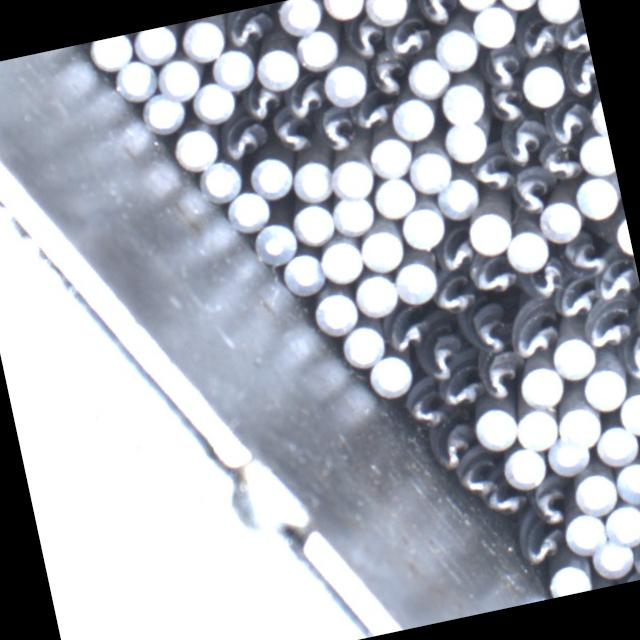tool: (283, 150, 338, 207), (248, 42, 302, 96), (570, 170, 624, 223), (355, 221, 407, 276), (205, 42, 258, 95), (532, 193, 584, 246), (461, 204, 514, 256), (364, 348, 416, 401), (431, 20, 482, 74), (239, 152, 294, 202), (468, 402, 520, 454), (308, 285, 360, 337), (386, 90, 439, 141), (336, 318, 387, 370), (390, 254, 441, 306), (405, 142, 456, 194), (350, 268, 401, 320), (315, 234, 366, 286), (176, 14, 227, 66), (499, 224, 552, 274), (498, 442, 549, 493), (548, 331, 599, 382), (398, 200, 448, 252), (170, 121, 220, 173), (570, 470, 620, 522), (192, 157, 245, 206), (368, 171, 419, 221), (290, 22, 340, 73), (318, 59, 368, 110), (328, 151, 377, 203), (440, 115, 490, 165), (516, 362, 566, 412), (468, 0, 518, 49), (404, 51, 454, 100), (222, 184, 272, 233), (248, 220, 298, 269), (511, 403, 559, 453), (288, 196, 336, 246), (552, 400, 602, 448), (187, 78, 238, 125), (589, 421, 640, 468), (580, 363, 628, 412), (560, 508, 609, 556), (434, 172, 482, 220), (590, 535, 638, 583), (278, 248, 326, 296), (366, 132, 414, 180), (140, 88, 188, 135), (518, 62, 566, 109), (154, 52, 202, 98), (328, 192, 376, 238), (544, 434, 592, 479), (274, 0, 326, 41), (114, 56, 160, 102), (574, 130, 616, 178), (133, 24, 179, 65), (601, 499, 640, 547), (544, 559, 591, 598), (88, 34, 136, 70), (359, 0, 409, 28), (613, 389, 640, 440), (612, 456, 640, 505), (530, 0, 582, 25), (320, 0, 368, 22), (491, 0, 543, 11), (451, 0, 501, 11)
tool_b: (506, 299, 560, 363), (414, 326, 472, 384), (511, 508, 564, 570), (537, 98, 596, 148), (576, 296, 630, 350), (475, 348, 525, 406), (504, 160, 554, 218), (222, 3, 278, 53), (463, 300, 513, 356), (524, 473, 575, 527), (453, 442, 501, 499), (548, 267, 598, 321), (313, 101, 361, 156), (560, 232, 615, 280), (427, 419, 476, 472), (266, 104, 314, 158), (382, 306, 436, 354), (216, 114, 266, 164), (403, 379, 447, 434), (439, 364, 485, 416), (498, 119, 547, 167), (364, 50, 410, 101), (478, 41, 524, 92), (426, 270, 477, 316), (466, 252, 518, 297), (383, 15, 434, 60), (549, 10, 591, 61), (537, 140, 583, 186), (466, 154, 514, 198), (486, 82, 531, 128), (512, 17, 557, 62), (279, 76, 325, 120), (520, 258, 566, 302), (482, 476, 526, 520), (432, 231, 476, 274), (236, 78, 281, 120), (342, 16, 383, 62), (560, 52, 599, 100), (352, 90, 396, 132), (592, 260, 634, 302), (414, 0, 464, 31), (615, 332, 640, 387)
